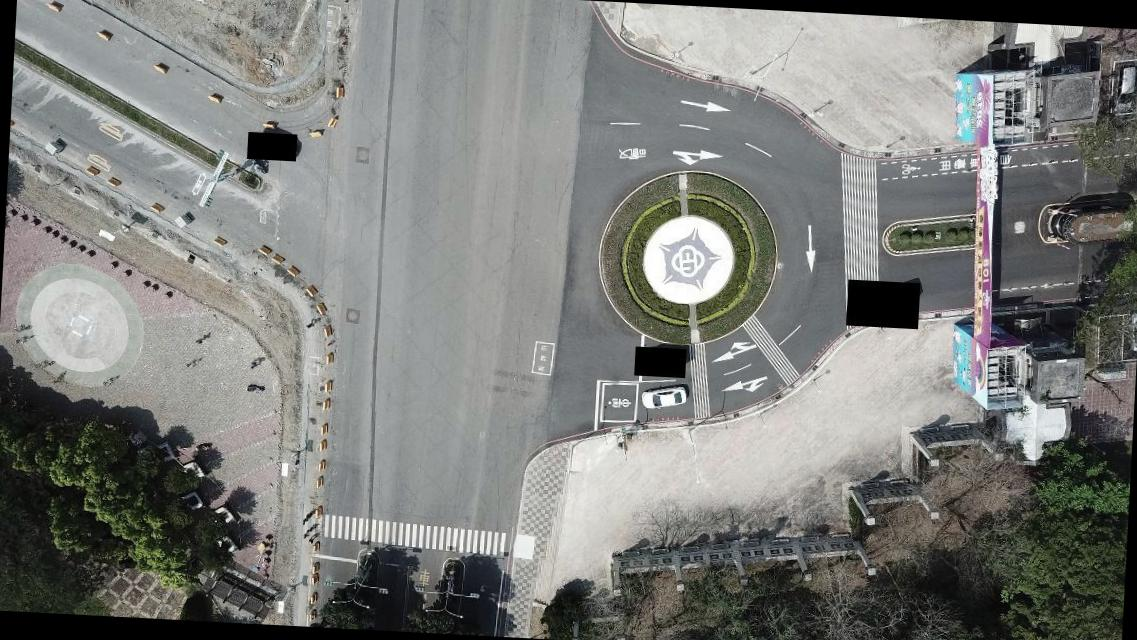vehicle: (1110, 63, 1136, 115), (640, 383, 686, 411)
